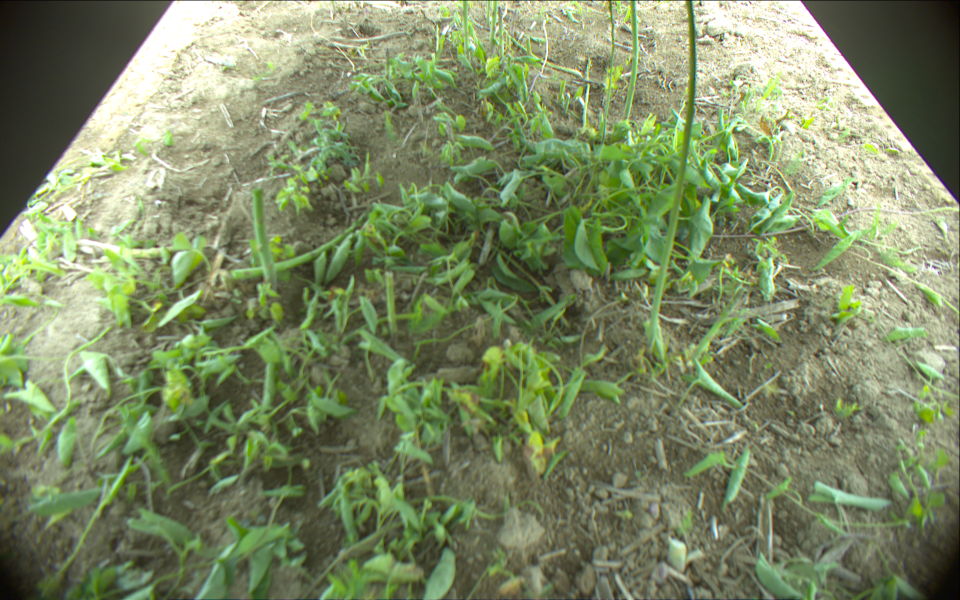aspa: (648, 1, 698, 347), (231, 222, 356, 282), (694, 290, 745, 363), (507, 30, 581, 76), (252, 187, 276, 293), (83, 240, 195, 260), (623, 1, 640, 123), (602, 1, 617, 130), (384, 272, 396, 337), (582, 57, 592, 129), (461, 1, 470, 47), (489, 1, 498, 42), (499, 8, 504, 59), (485, 1, 491, 25), (525, 39, 533, 57)
